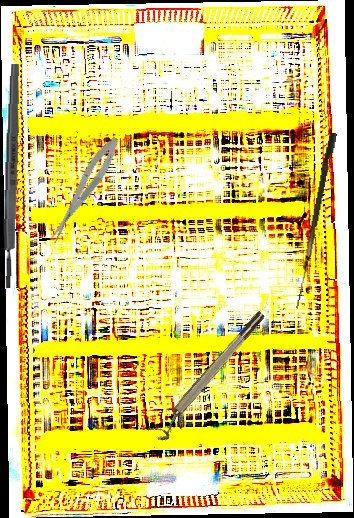Fixation Ring: (147, 308, 273, 445)
Hook Surgical: (296, 131, 337, 311)
Micro Scissor: (41, 133, 126, 246)
Scalpel Handle: (1, 63, 22, 289)
